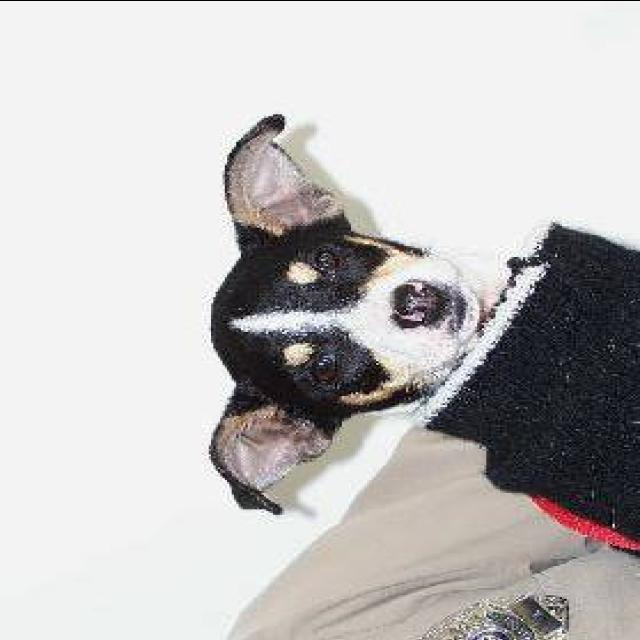dog: (182, 99, 548, 520)
